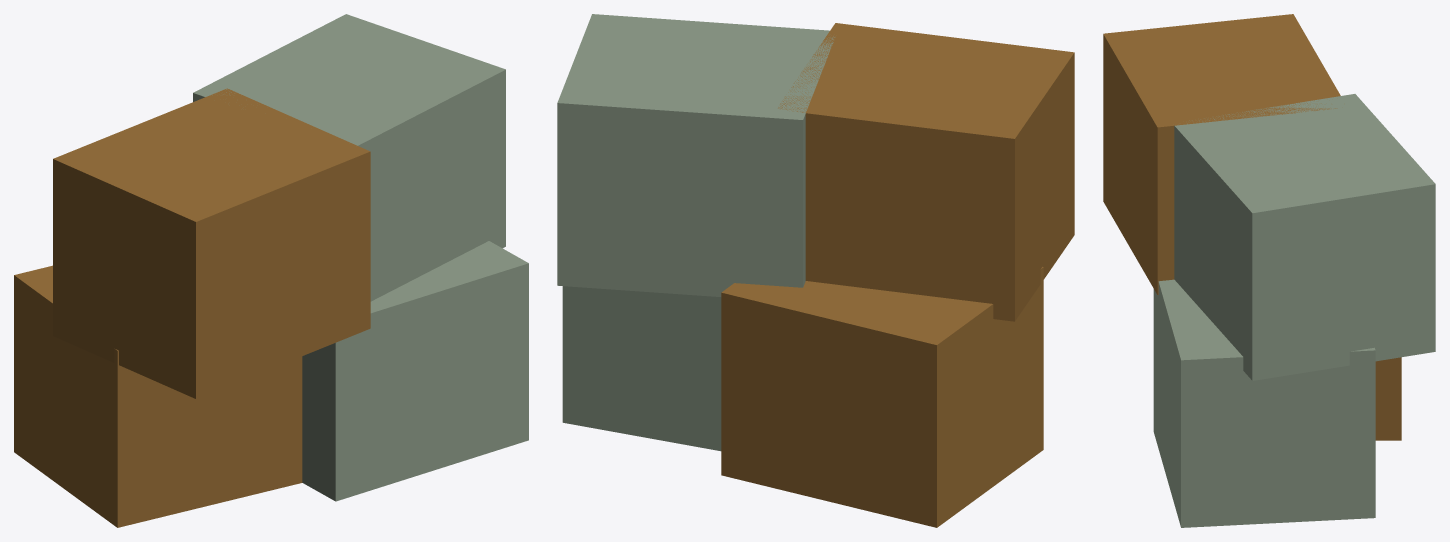
Rendered from scrap_crate.glb.
3 renders of one model, left to right at view 1: azimuth 30°, elevation 25°; view 2: azimuth 150°, elevation 25°; view 3: azimuth 270°, elevation 25°, orthographic. The views are drawn at different scales.
Parts seen in each view (by area): view 1: crate_2, crate_3, crate_1, crate_0; view 2: crate_2, crate_3, crate_0, crate_1; view 3: crate_3, crate_1, crate_2, crate_0.
Part boxes in pixels (x1,y1,x2,y2): crate_2: (53,88,370,398); crate_3: (193,14,505,301); crate_1: (302,241,528,501); crate_0: (14,265,302,527); crate_2: (778,23,1074,321); crate_3: (557,14,835,296); crate_0: (721,267,1043,527); crate_1: (562,286,721,451); crate_3: (1174,94,1435,380); crate_1: (1153,279,1375,527); crate_2: (1103,14,1340,294); crate_0: (1375,357,1401,440).
Size of what is drawn, in the model's own units: 2.17 by 1.63 by 1.53.
